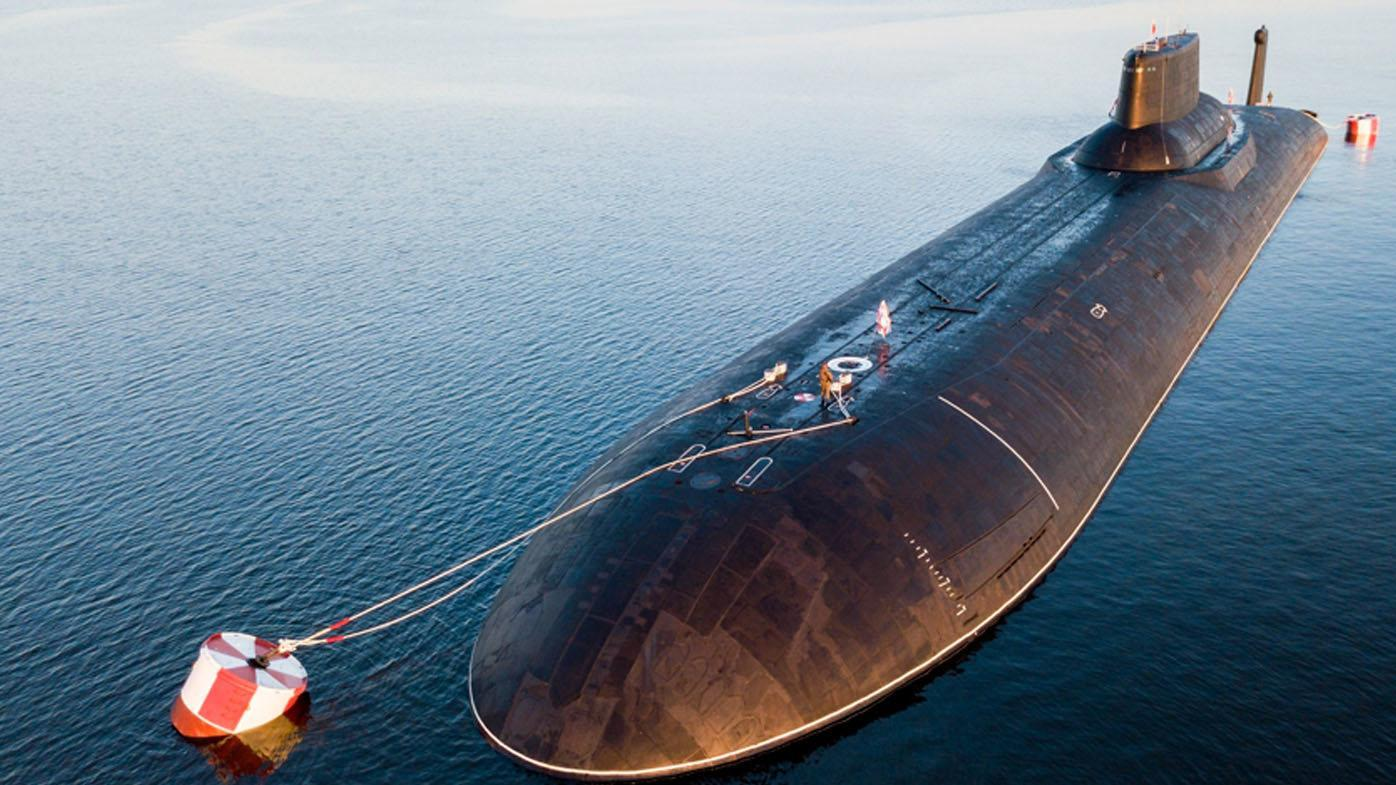Submarine: (416, 12, 1344, 766)
